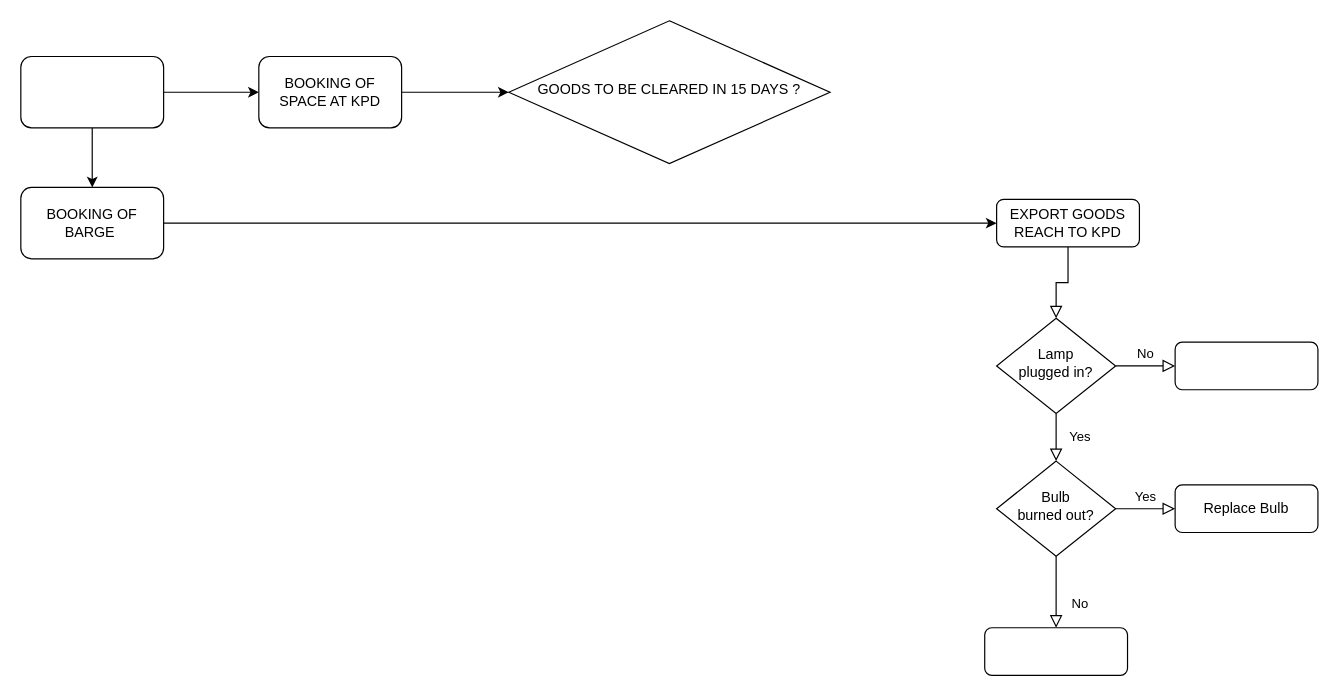
The diagram is 1339 pixels wide and 696 high, and some of its shapes have lost their labels. The shapes that lost their labels are listed below. From the top down, each one's centre as x and y in pixels, then its label:
pixel 92 91: CONFIRMATION OF PROJECT
pixel 1246 365: Plug in lamp
pixel 1056 651: Repair Lamp
